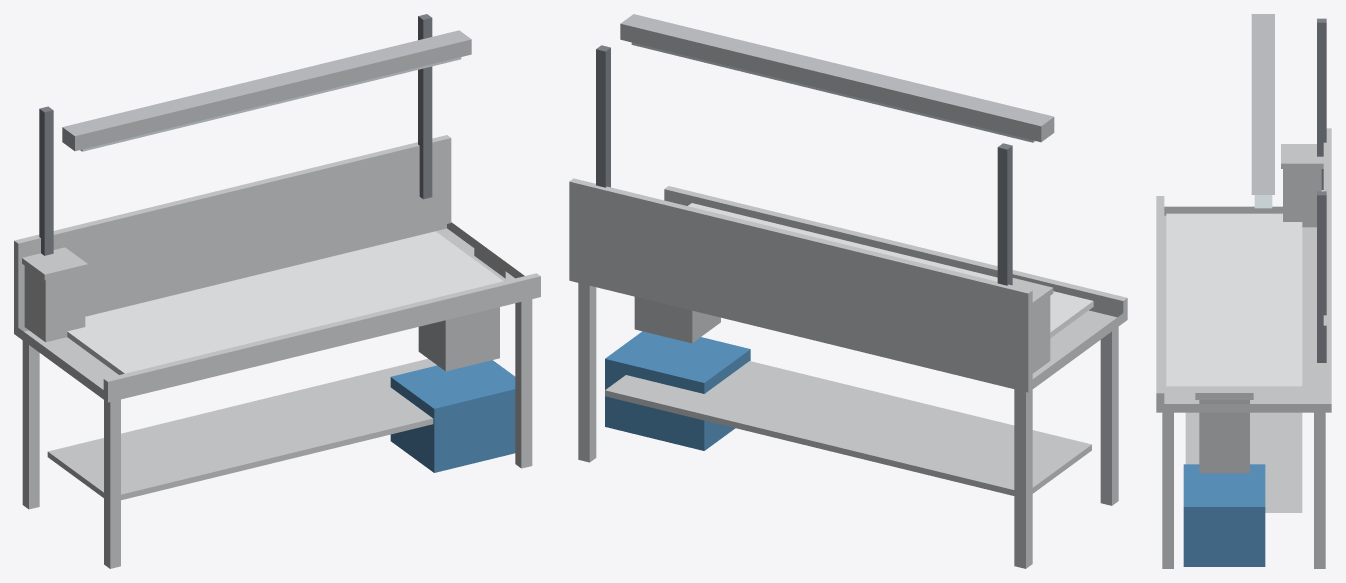
Rendered from SM_TRIM_BENCH.fbx.
3 views of the same model, side by side, from view 1: azimuth 30°, elevation 25°; view 2: azimuth 150°, elevation 25°; view 3: azimuth 270°, elevation 25° (orthographic). The views are drawn at different scales.
Parts seen in each view (by area): view 1: SM_TRIM_BENCH; view 2: SM_TRIM_BENCH; view 3: SM_TRIM_BENCH.
Part boxes in pixels (x1,y1,x2,y2): SM_TRIM_BENCH: (14, 14, 540, 568); SM_TRIM_BENCH: (569, 14, 1127, 568); SM_TRIM_BENCH: (1156, 14, 1331, 568).
Size of the model in its own units: 241 by 209 by 90.
